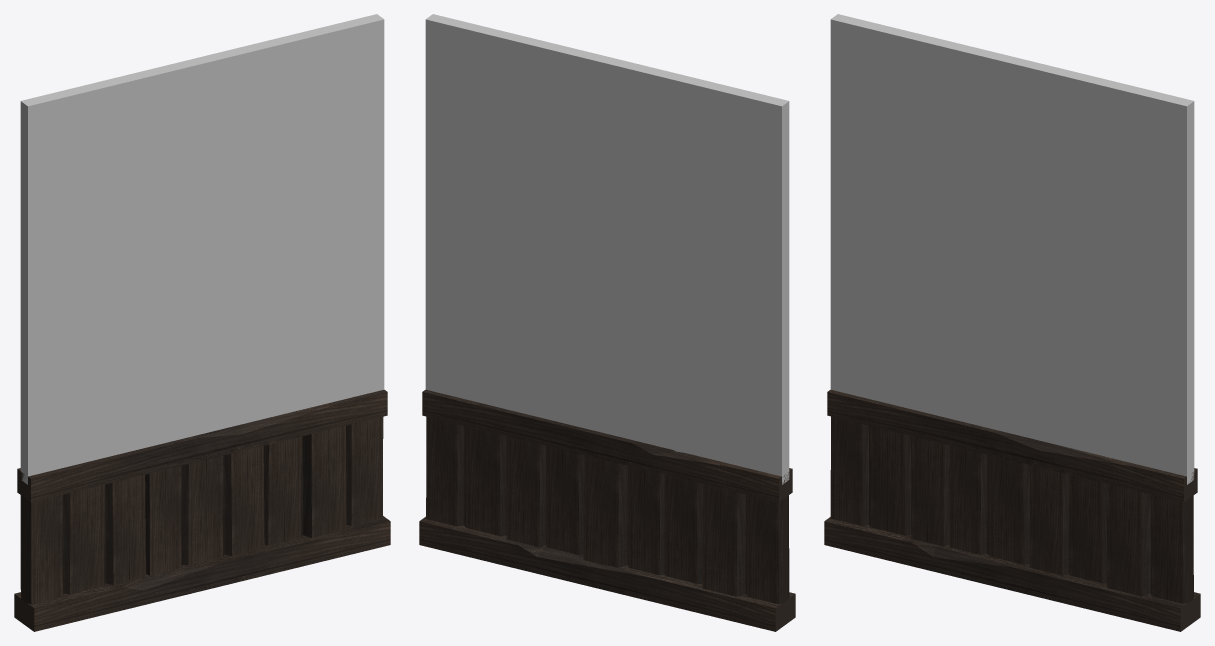
The model's file is wall 1.fbx.
The picture shows the model from 3 angles, left to right: view 1: azimuth 30°, elevation 25°; view 2: azimuth 150°, elevation 25°; view 3: azimuth 330°, elevation 25°; orthographic projection.
Parts seen in each view (by area): view 1: SM_Bld_House_Wall_02, SM_Bld_House_Wall_02.001; view 2: SM_Bld_House_Wall_02, SM_Bld_House_Wall_02.001; view 3: SM_Bld_House_Wall_02, SM_Bld_House_Wall_02.001.
Part boxes in pixels (x1=…): SM_Bld_House_Wall_02: x1=20, y1=14, x2=384, y2=484; SM_Bld_House_Wall_02.001: x1=14, y1=389, x2=390, y2=631; SM_Bld_House_Wall_02: x1=425, y1=14, x2=789, y2=484; SM_Bld_House_Wall_02.001: x1=419, y1=389, x2=795, y2=631; SM_Bld_House_Wall_02: x1=830, y1=14, x2=1194, y2=484; SM_Bld_House_Wall_02.001: x1=824, y1=389, x2=1200, y2=631.
Bounding box in the file's own units: 250 × 349 × 24.2.
